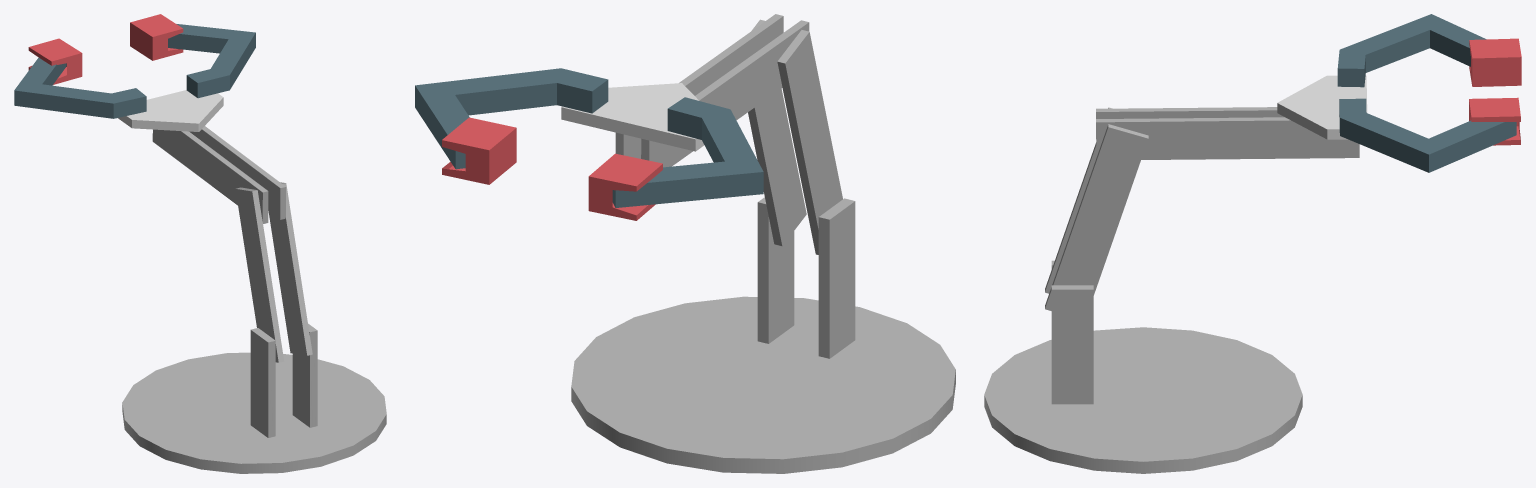
File: grua_provisional.fbx
The picture shows the model from 3 angles, left to right: view 1: azimuth 30°, elevation 25°; view 2: azimuth 150°, elevation 25°; view 3: azimuth 270°, elevation 25°; orthographic projection. The views are drawn at different scales.
Parts seen in each view (by area): view 1: Base, right, left, right.001, right_1, left.001, base, right_2, left_2, left_1, agarreIzquierdo, agarreDerecho; view 2: Base, right, left, right.001, right_2, left.001, base, right_1, left_2, agarreIzquierdo, agarreDerecho, left_1; view 3: Base, left_1, left.001, left, left_2, right, base, agarreDerecho, right_1, agarreIzquierdo, right.001.
Boxes of the visible parts, <box> form: Base: <box>122,352,386,473</box>; right: <box>14,57,146,118</box>; left: <box>168,24,255,98</box>; right.001: <box>235,187,284,362</box>; right_1: <box>152,129,268,223</box>; left.001: <box>268,182,312,355</box>; base: <box>118,90,223,131</box>; right_2: <box>250,328,275,437</box>; left_2: <box>292,323,317,427</box>; left_1: <box>189,126,285,219</box>; agarreIzquierdo: <box>130,14,183,60</box>; agarreDerecho: <box>28,38,82,84</box>; Base: <box>571,296,955,473</box>; right: <box>612,97,763,207</box>; left: <box>415,68,608,169</box>; right.001: <box>777,30,842,254</box>; right_2: <box>818,198,855,358</box>; left.001: <box>748,19,806,245</box>; base: <box>561,83,704,151</box>; right_1: <box>641,20,809,167</box>; left_2: <box>757,197,794,343</box>; agarreIzquierdo: <box>442,117,516,184</box>; agarreDerecho: <box>588,153,662,220</box>; left_1: <box>615,14,783,158</box>; Base: <box>984,327,1302,473</box>; left_1: <box>1096,117,1359,159</box>; left.001: <box>1045,124,1148,310</box>; left: <box>1339,98,1516,172</box>; left_2: <box>1051,285,1093,404</box>; right: <box>1337,14,1486,87</box>; base: <box>1277,75,1367,139</box>; agarreDerecho: <box>1469,38,1521,86</box>; right_1: <box>1096,107,1284,118</box>; agarreIzquierdo: <box>1469,97,1520,145</box>; right.001: <box>1045,107,1112,293</box>.
Bounding box in the file's own units: 29.4 × 31.94 × 47.49.
